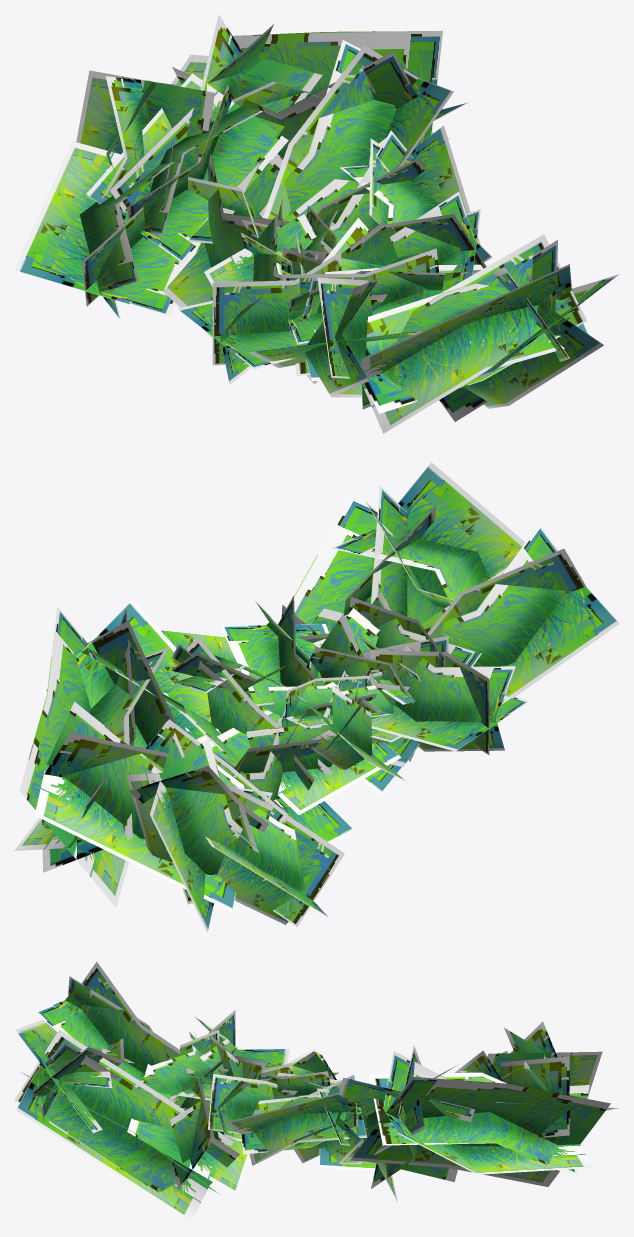
The model's file is FloatgrassPodLarge.fbx.
3 views of the same model, one above another, from view 1: azimuth 30°, elevation 25°; view 2: azimuth 150°, elevation 25°; view 3: azimuth 270°, elevation 25° (orthographic). The views are drawn at different scales.
Visible parts, largest first — view 1: Plane.014; view 2: Plane.014; view 3: Plane.014.
Boxes of the visible parts, box(x1,y1,x2,y2) form: Plane.014: box(14, 14, 619, 433); Plane.014: box(14, 462, 619, 932); Plane.014: box(14, 961, 619, 1222).
Size of the model in its own units: 649 by 375 by 1089.
